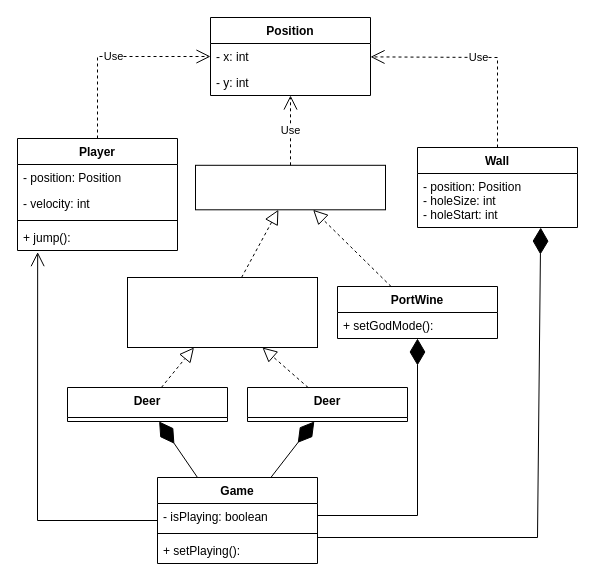
This 595x584 diagram has some shape labels left out. Each missing label, with the centre of its shape:
<<Interface>> CollectableObject: point (290, 187)
<<Interface>> Food - points: int: point (222, 312)
